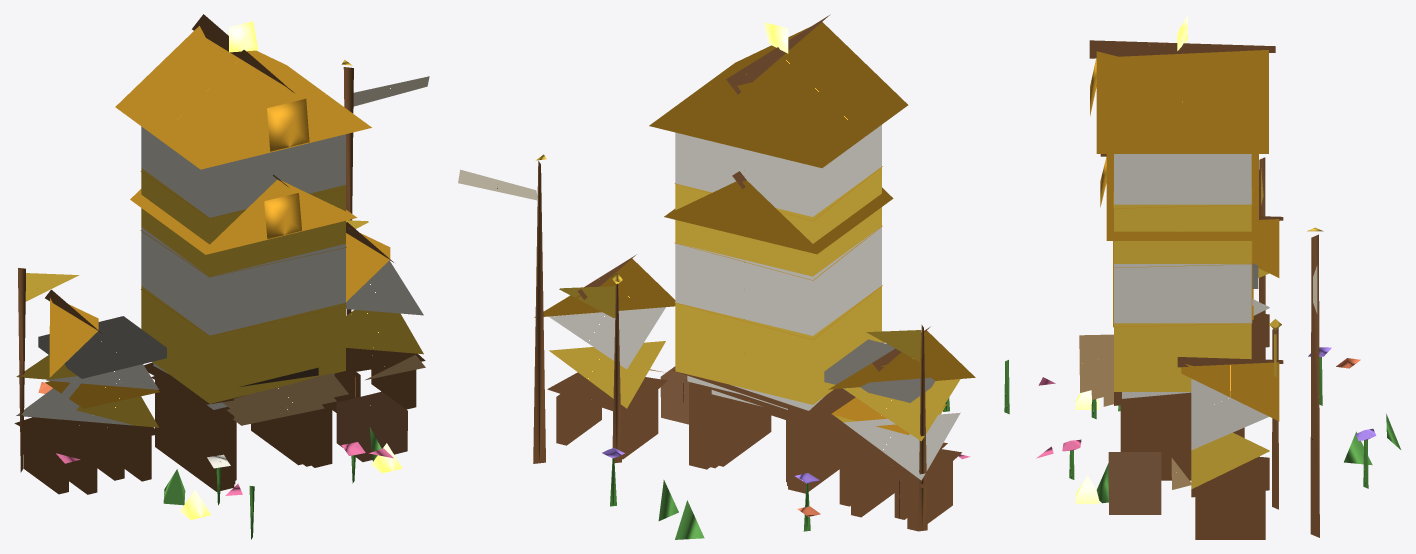
Rendered from bee-apiary-lv-blocky_lod2.glb.
3 renders of one model, left to right at view 1: azimuth 30°, elevation 25°; view 2: azimuth 150°, elevation 25°; view 3: azimuth 270°, elevation 25°, orthographic.
Parts seen in each view (by area): view 1: lv3, lv2, lv1; view 2: lv3, lv2, lv1; view 3: lv3, lv2, lv1.
Boxes of the visible parts, x1=… form: lv3: x1=14, y1=14, x2=429, y2=539; lv2: x1=38, y1=174, x2=407, y2=495; lv1: x1=163, y1=404, x2=381, y2=505; lv3: x1=458, y1=14, x2=975, y2=539; lv2: x1=559, y1=171, x2=947, y2=531; lv1: x1=711, y1=390, x2=787, y2=482; lv3: x1=1004, y1=14, x2=1400, y2=539; lv2: x1=1036, y1=154, x2=1372, y2=514; lv1: x1=1062, y1=394, x2=1120, y2=503.
Bounding box in the file's own units: 1.95 × 1.82 × 1.5.
